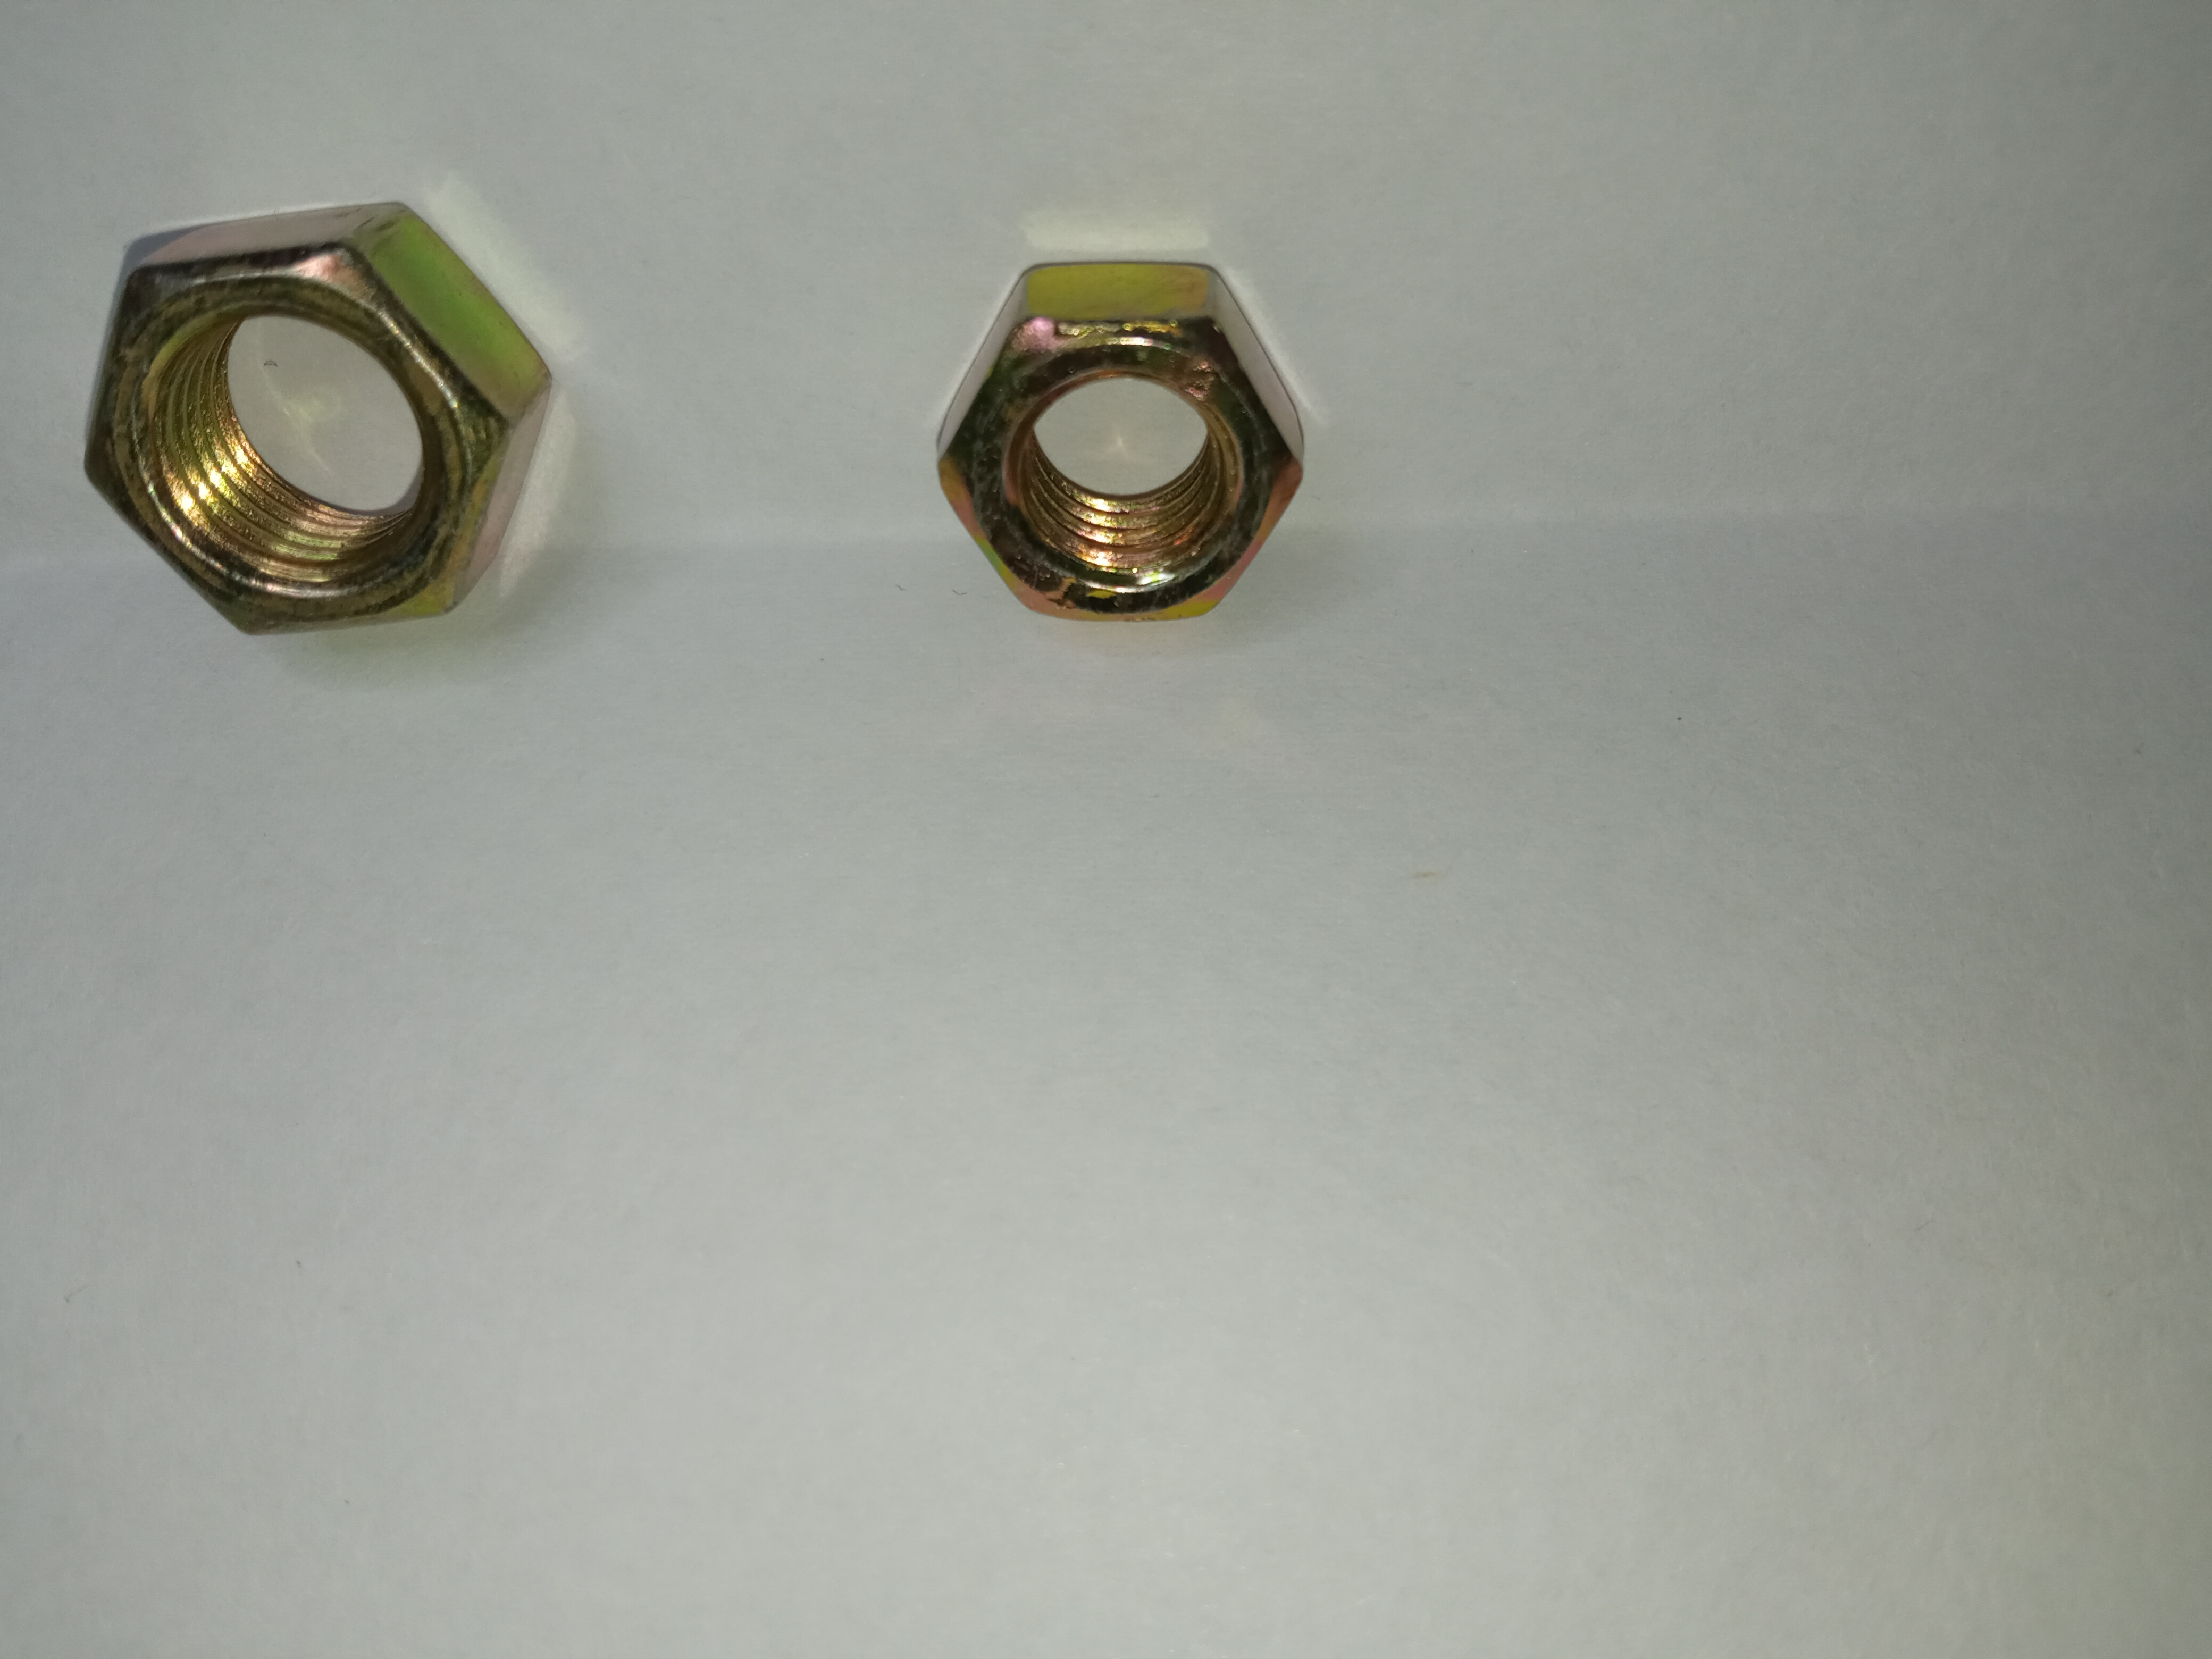m10: (91, 220, 523, 627)
m8: (942, 267, 1312, 615)
